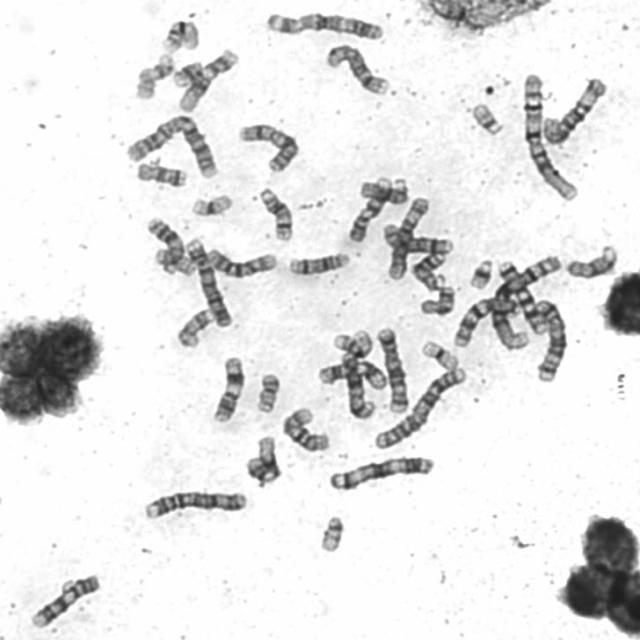A1: (518, 69, 581, 203), (488, 253, 563, 350)
A2: (371, 363, 469, 451), (122, 110, 222, 180)
A3: (325, 451, 438, 493), (261, 8, 387, 43)
B4: (182, 234, 234, 328), (140, 486, 250, 521)
B5: (372, 323, 410, 415), (531, 296, 570, 384)
C10: (203, 243, 280, 280), (279, 403, 332, 454)
C11: (208, 353, 246, 424), (308, 362, 390, 394)
C12: (175, 44, 241, 114), (242, 432, 283, 484)
C6: (538, 73, 609, 147), (383, 192, 432, 282)
C7: (490, 255, 554, 337), (450, 292, 523, 350)
C8: (321, 39, 391, 97), (378, 218, 455, 255)
C9: (26, 570, 103, 630), (345, 173, 393, 243)
D13: (147, 214, 185, 277), (407, 249, 449, 292)
D14: (255, 184, 294, 244), (284, 248, 352, 277)
D15: (562, 242, 620, 280), (355, 174, 416, 208)
E16: (158, 16, 202, 54), (329, 326, 375, 359)
E17: (130, 49, 177, 101), (173, 304, 216, 349)
E18: (133, 158, 189, 190), (416, 282, 457, 317)
F19: (418, 337, 460, 372), (187, 190, 235, 218)
F20: (150, 248, 200, 279), (252, 370, 282, 414)
G21: (169, 56, 206, 88), (465, 256, 496, 292)
G22: (467, 99, 505, 137), (316, 511, 346, 554)
X: (235, 119, 302, 174), (337, 350, 377, 420)
